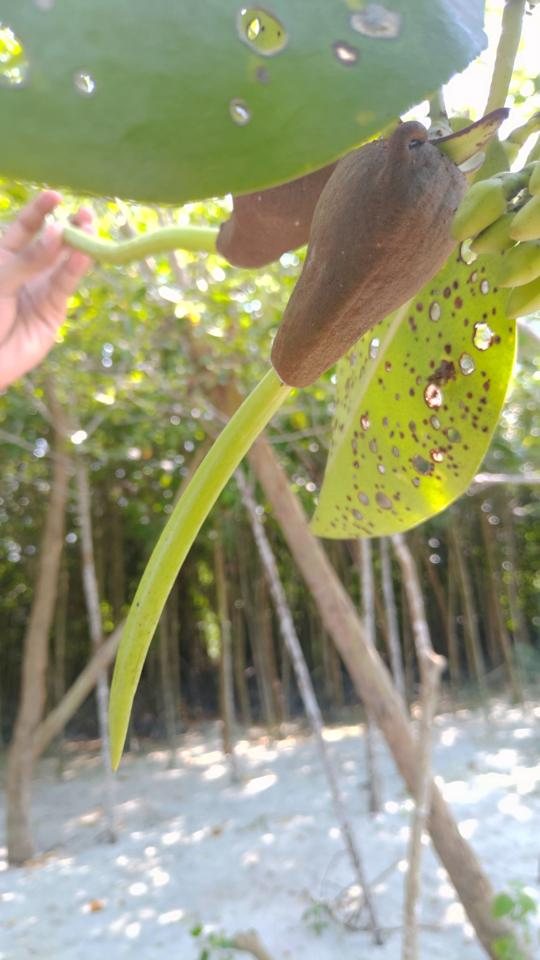mentah: (64, 106, 479, 796)
